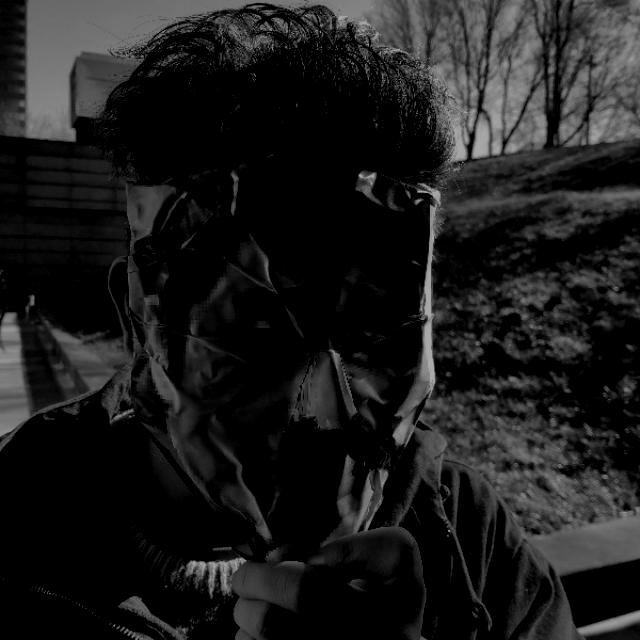fake: (143, 50, 454, 564)
